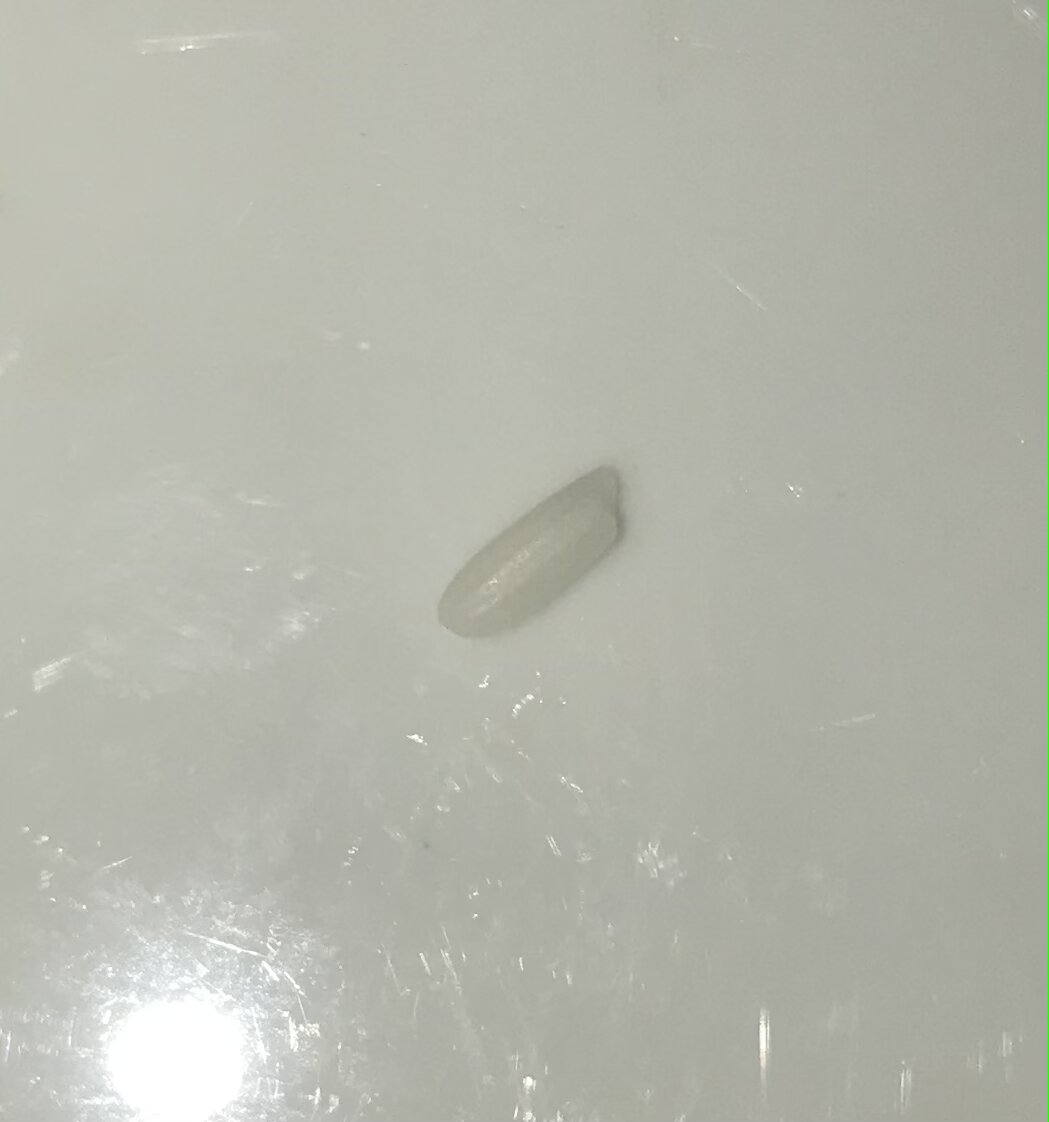Gao Lai Sua: (438, 459, 631, 648)
